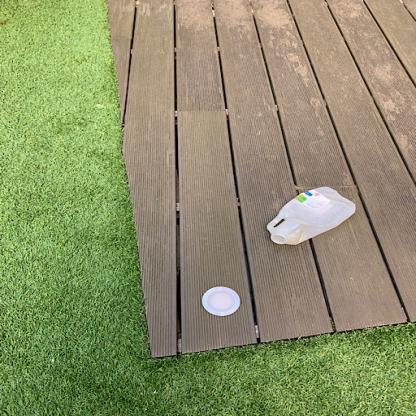trash: (266, 186, 360, 245)
